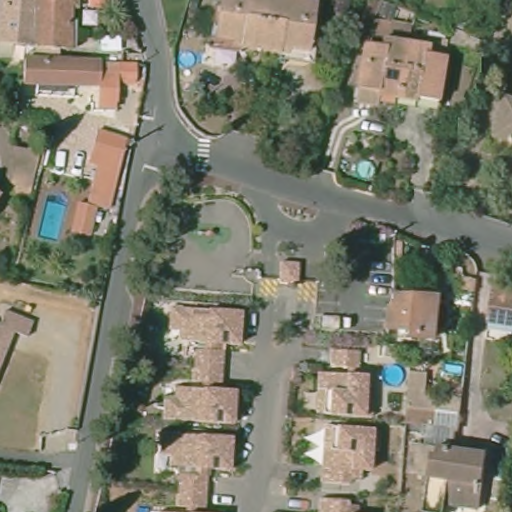pool: (34, 188, 75, 242), (349, 155, 383, 187), (431, 352, 469, 380), (379, 358, 408, 392), (173, 45, 200, 72)
